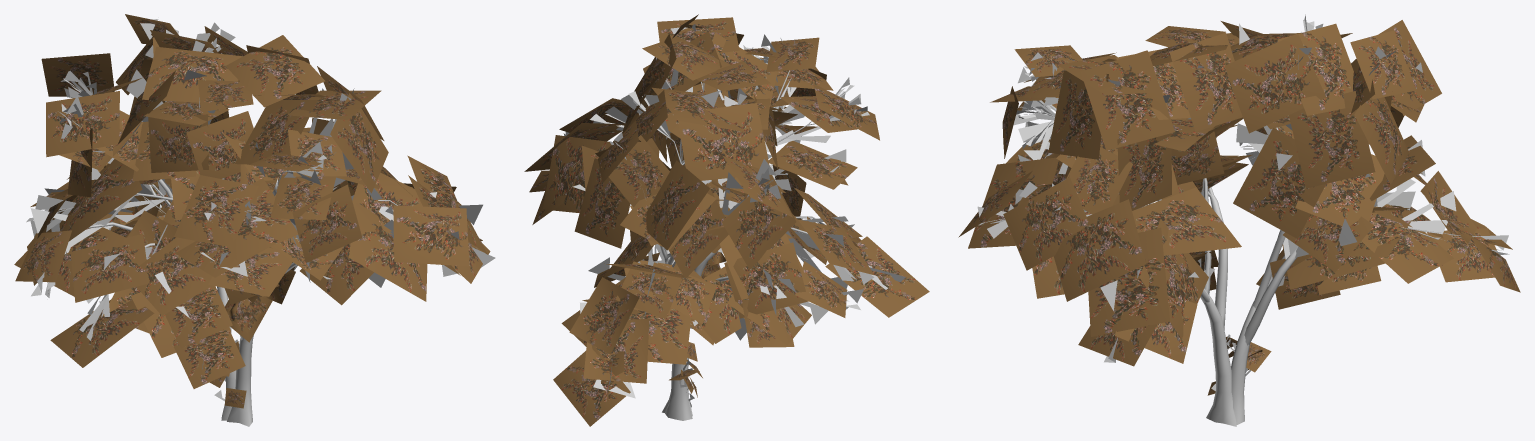
The model's file is tree_elm_01_autumn.DAE.
3 views of the same model, side by side, from view 1: azimuth 30°, elevation 25°; view 2: azimuth 150°, elevation 25°; view 3: azimuth 270°, elevation 25° (orthographic). The views are drawn at different scales.
Parts seen in each view (by area): view 1: frond01, frond002, branch, SOMA_elm_01_AmericanElmBark, branch22, frond; view 2: frond01, frond002, branch, branch22, SOMA_elm_01_AmericanElmBark; view 3: frond01, frond002, branch, SOMA_elm_01_AmericanElmBark, branch22.
Boxes of the visible parts, left/top/right/bottom form: frond01: left=14, top=14, right=490, bottom=408; frond002: left=15, top=14, right=488, bottom=407; branch: left=26, top=19, right=495, bottom=400; SOMA_elm_01_AmericanElmBark: left=47, top=50, right=397, bottom=426; branch22: left=28, top=20, right=492, bottom=399; frond: left=225, top=270, right=295, bottom=342; frond01: left=524, top=14, right=929, bottom=426; frond002: left=530, top=17, right=926, bottom=426; branch: left=564, top=24, right=905, bottom=400; branch22: left=564, top=25, right=902, bottom=399; SOMA_elm_01_AmericanElmBark: left=612, top=29, right=862, bottom=420; frond01: left=958, top=20, right=1520, bottom=395; frond002: left=967, top=21, right=1519, bottom=393; branch: left=977, top=14, right=1508, bottom=390; SOMA_elm_01_AmericanElmBark: left=1018, top=100, right=1438, bottom=426; branch22: left=978, top=19, right=1507, bottom=390.
Bounding box in the file's own units: 19.67 × 16.94 × 22.12.
